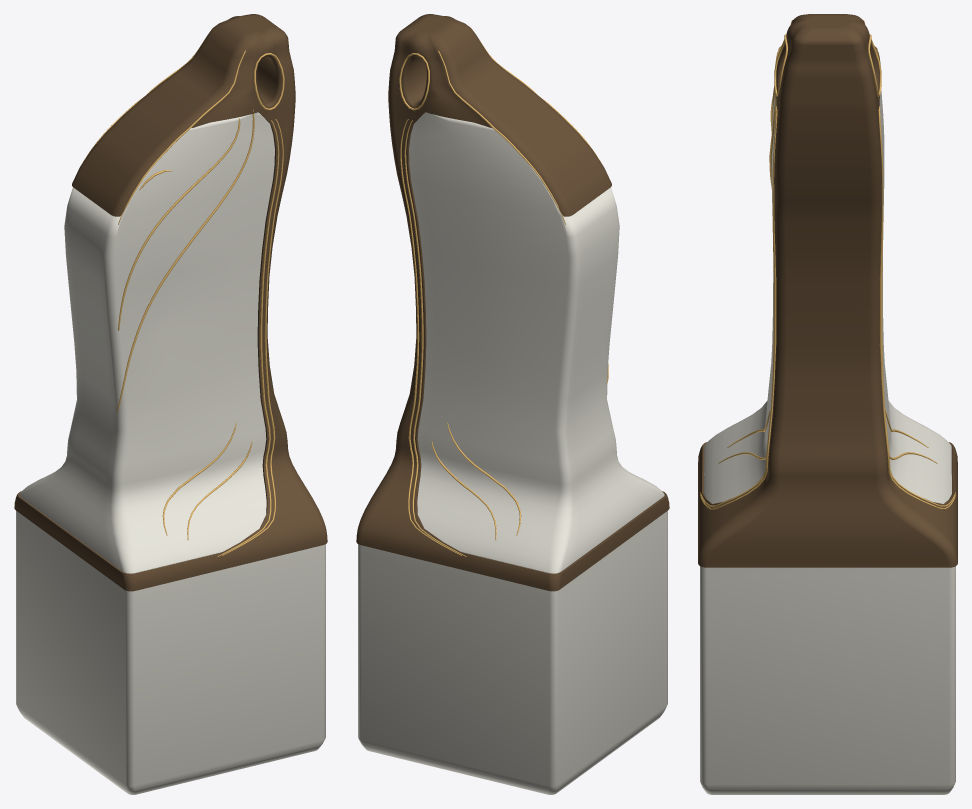
The model's file is QingGuiR03_StructureCandidate.glb.
3 views of the same model, side by side, from view 1: azimuth 30°, elevation 25°; view 2: azimuth 150°, elevation 25°; view 3: azimuth 270°, elevation 25° (orthographic). The views are drawn at different scales.
Visible parts, largest first — view 1: QingGuiR03_JadeCore_LOD0, QingGuiR03_BronzeFrame_LOD0, QingGuiR03_GoldWire_LOD0; view 2: QingGuiR03_JadeCore_LOD0, QingGuiR03_BronzeFrame_LOD0, QingGuiR03_GoldWire_LOD0; view 3: QingGuiR03_BronzeFrame_LOD0, QingGuiR03_JadeCore_LOD0, QingGuiR03_GoldWire_LOD0.
Part boxes in pixels (x1,y1,x2,y2): QingGuiR03_JadeCore_LOD0: (16, 112, 325, 794); QingGuiR03_BronzeFrame_LOD0: (14, 14, 327, 591); QingGuiR03_GoldWire_LOD0: (83, 27, 284, 556); QingGuiR03_JadeCore_LOD0: (358, 112, 667, 794); QingGuiR03_BronzeFrame_LOD0: (356, 14, 669, 591); QingGuiR03_GoldWire_LOD0: (399, 27, 608, 556); QingGuiR03_BronzeFrame_LOD0: (698, 14, 957, 567); QingGuiR03_JadeCore_LOD0: (700, 90, 955, 794); QingGuiR03_GoldWire_LOD0: (700, 20, 955, 509).
Size of the model in its own units: 0.1106 by 0.35 by 0.1076.
